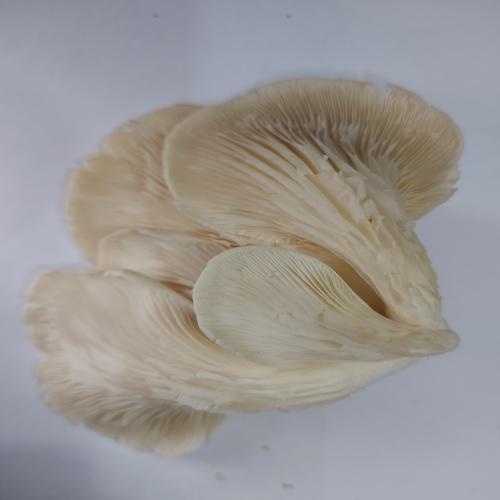Oyster Mushroom: (22, 76, 465, 457)
